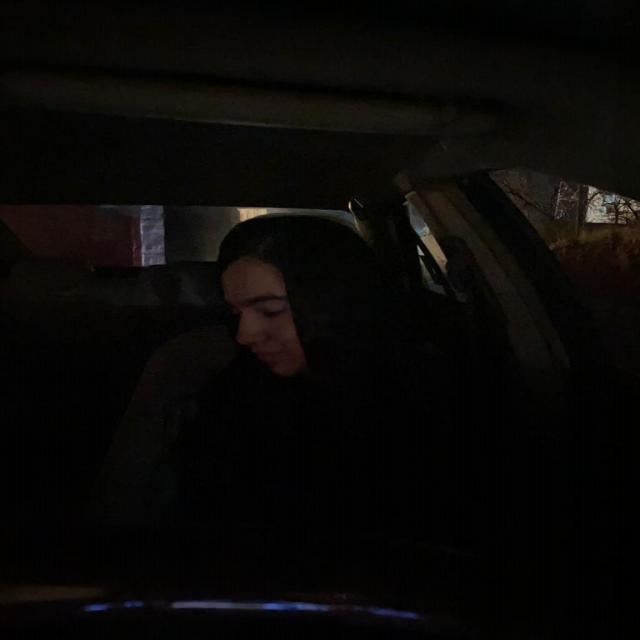drowsy: (203, 232, 390, 399)
